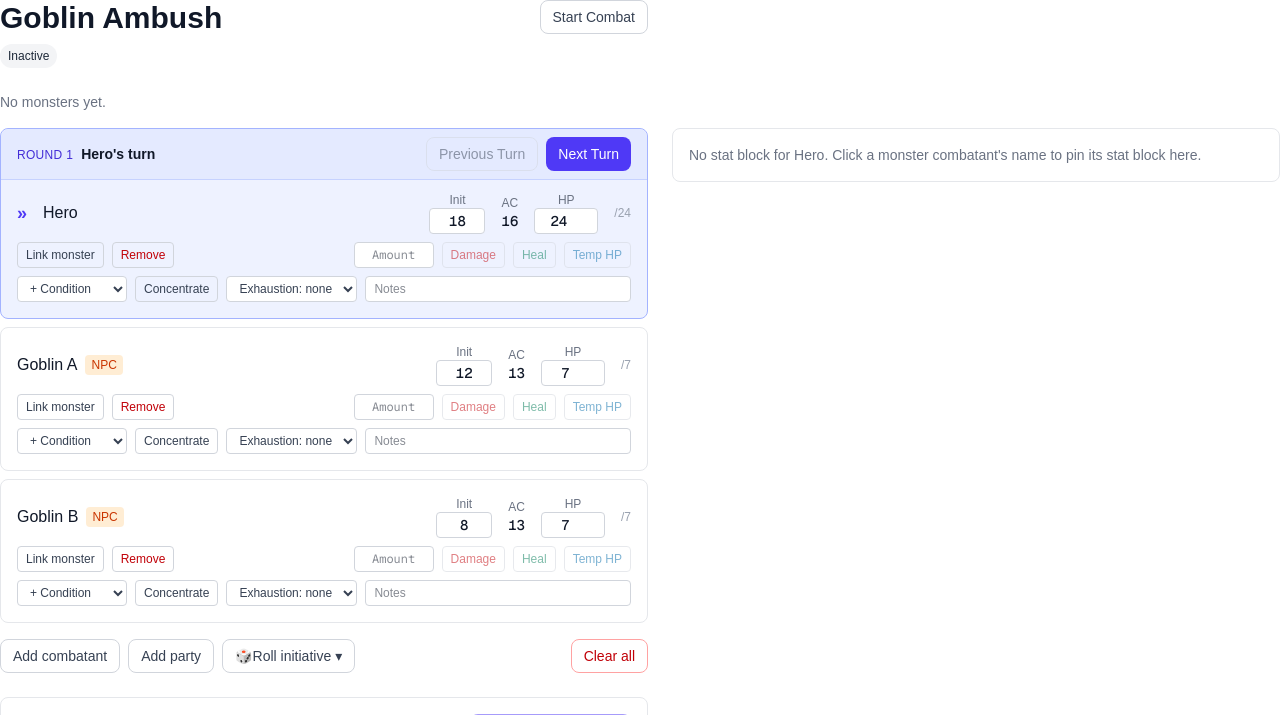
Test: InitiativeTrackerPage › remove combatant + clear all › cancelling the remove confirm sends nothing
This screenshot has width=1280, height=715.
Expected: the heading "Goblin Ambush" is shown, [0,0,222,36]
Click the button with aria-label "remove goblin a" at (143, 407), box [112,394,174,420]
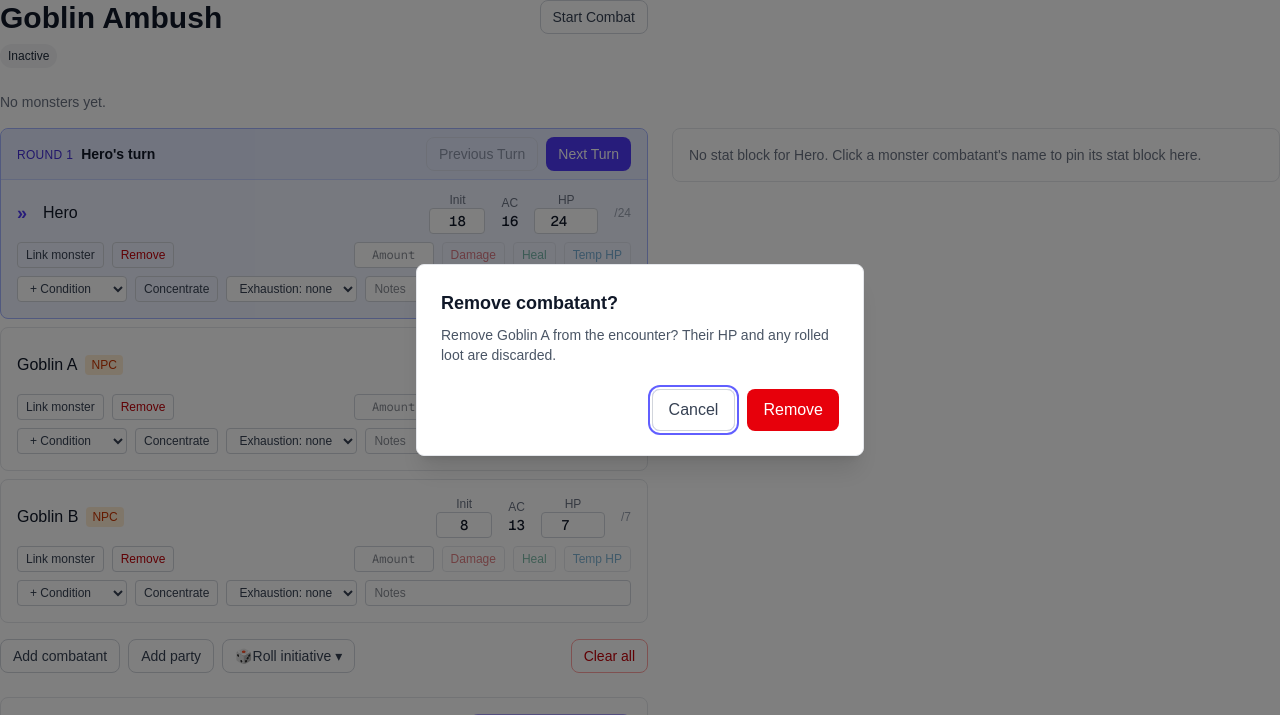
Click the button "Cancel" at (694, 410), box [652,389,735,431]
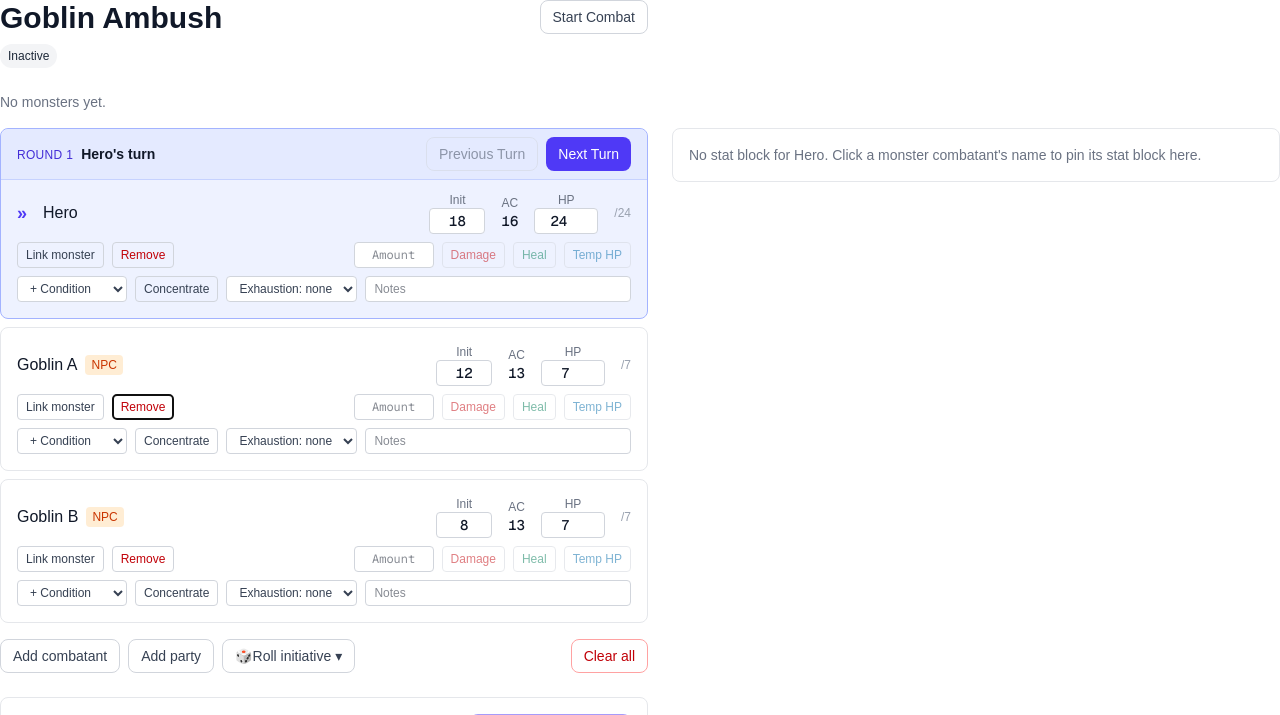
Expected: the text "Goblin A" is shown, [17,353,78,377]
Result: the dialog is gone
